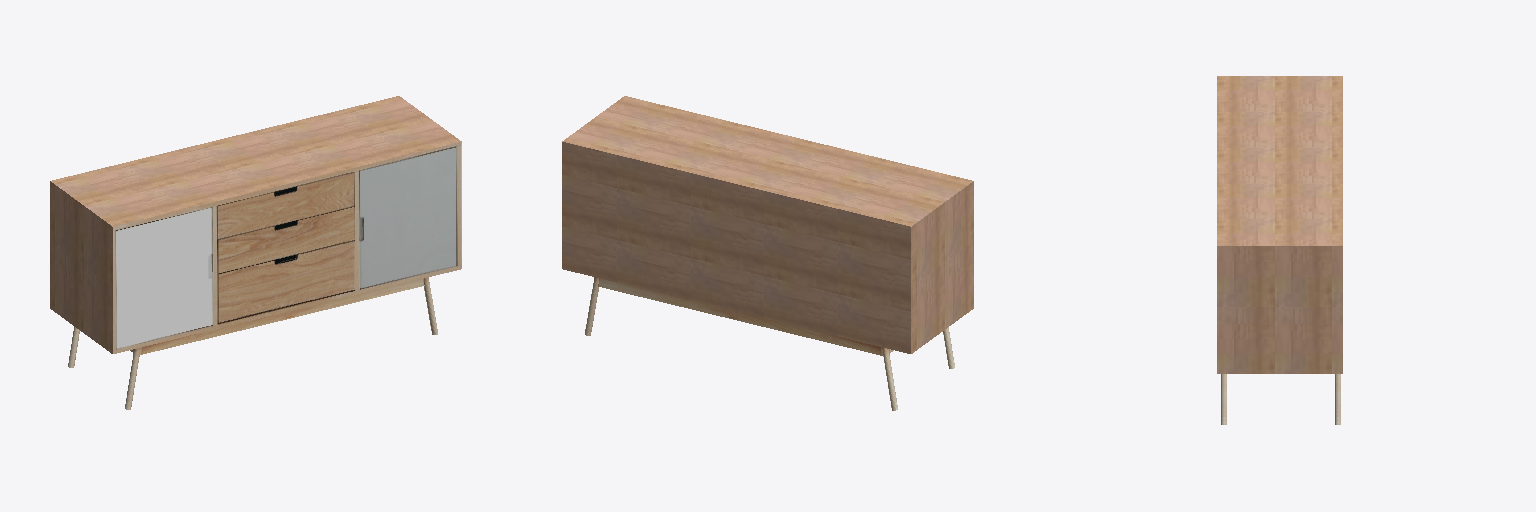
The picture shows the model from 3 angles: view 1: azimuth 30°, elevation 25°; view 2: azimuth 150°, elevation 25°; view 3: azimuth 270°, elevation 25°; orthographic projection.
Parts seen in each view (by area): view 1: Mesh8 Group8 Model, Mesh3 Group3 Model; view 2: Mesh8 Group8 Model, Mesh5 Group5 Model; view 3: Mesh8 Group8 Model.
Boxes of the visible parts, x1,y1,x2,y2 form: Mesh8 Group8 Model: [50, 96, 461, 353]; Mesh3 Group3 Model: [140, 279, 423, 354]; Mesh8 Group8 Model: [562, 96, 973, 353]; Mesh5 Group5 Model: [598, 278, 882, 355]; Mesh8 Group8 Model: [1217, 76, 1342, 373].
Size of the model in its own units: 145 by 75.2 by 45.
7 materials, 7 textured.